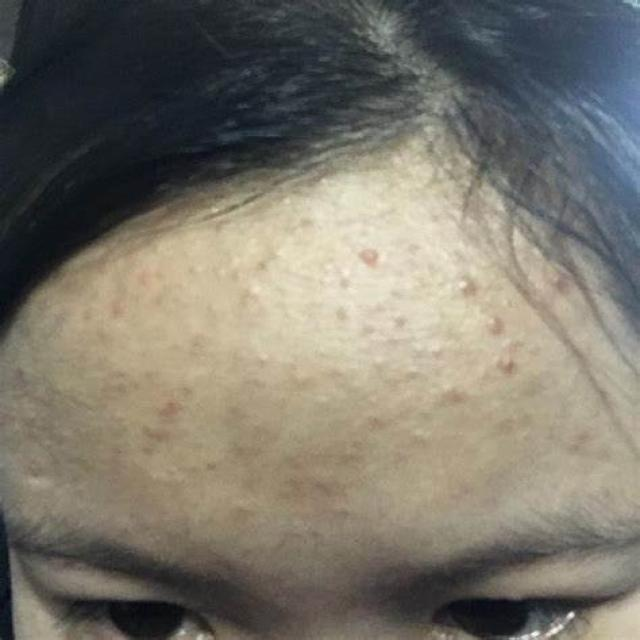fungal: (116, 264, 466, 498)
